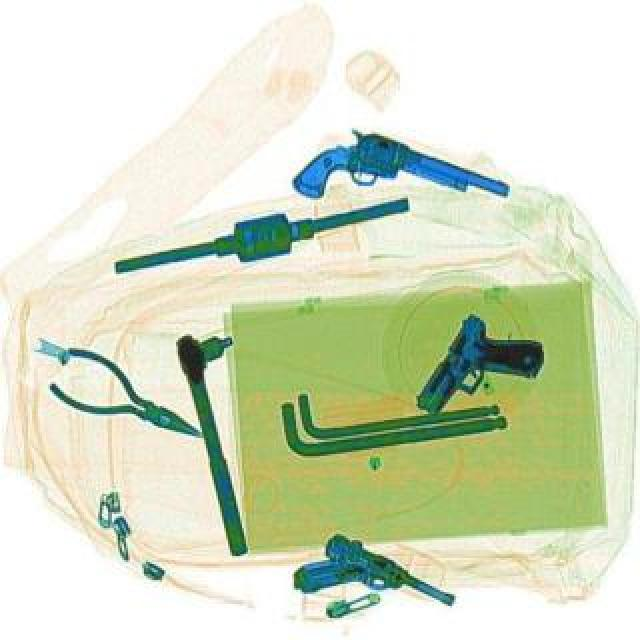gun: (286, 112, 512, 256), (410, 304, 550, 444), (298, 528, 454, 638)
wrench: (40, 340, 216, 462)
